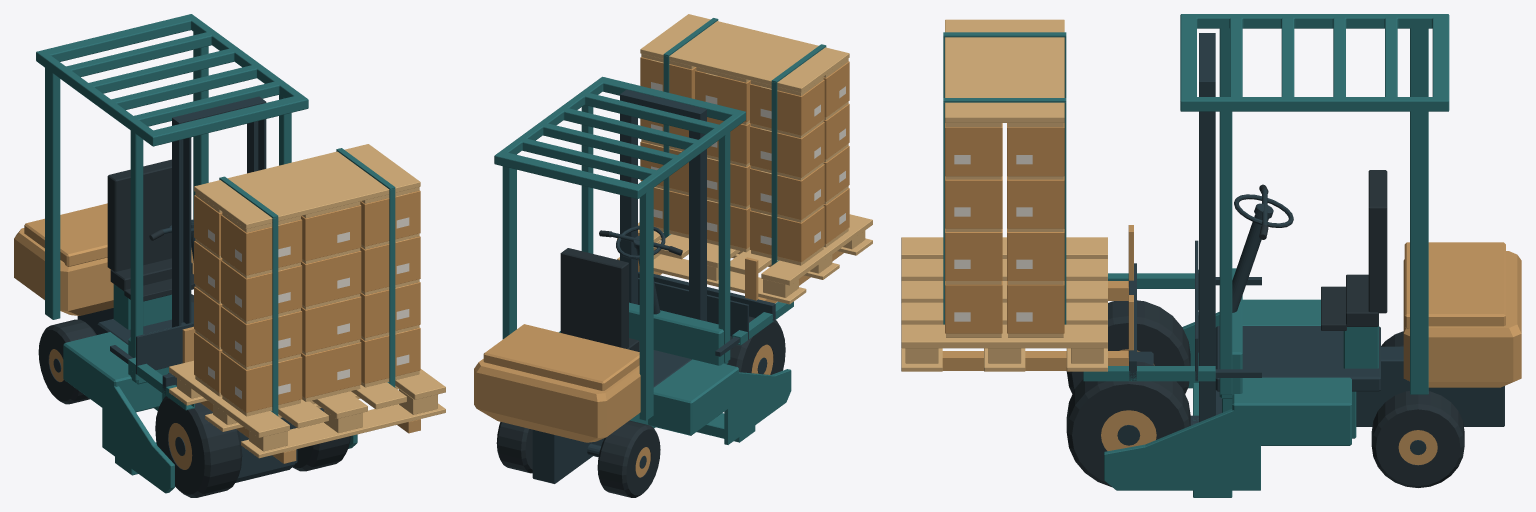
Rendered from forklift-loaded-pallet-load.glb.
3 renders of one model, left to right at view 1: azimuth 30°, elevation 25°; view 2: azimuth 150°, elevation 25°; view 3: azimuth 270°, elevation 25°, orthographic. The views are drawn at different scales.
Visible parts, largest first — view 1: forklift-loaded-pallet-load__batch_26, forklift-loaded-pallet-load__batch_01, forklift-loaded-pallet-load__batch_25, forklift-loaded-pallet-load__batch_00, forklift-loaded-pallet-load__batch_02, forklift-loaded-pallet-load__batch_23, forklift-loaded-pallet-load__batch_19, forklift-loaded-pallet-load__batch_24, forklift-loaded-pallet-load__batch_11, forklift-loaded-pallet-load__batch_03, forklift-loaded-pallet-load__batch_22, forklift-loaded-pallet-load__batch_05 (+2 smaller); view 2: forklift-loaded-pallet-load__batch_01, forklift-loaded-pallet-load__batch_26, forklift-loaded-pallet-load__batch_25, forklift-loaded-pallet-load__batch_02, forklift-loaded-pallet-load__batch_00, forklift-loaded-pallet-load__batch_23, forklift-loaded-pallet-load__batch_11, forklift-loaded-pallet-load__batch_24, forklift-loaded-pallet-load__batch_03, forklift-loaded-pallet-load__batch_19, forklift-loaded-pallet-load__batch_14, forklift-loaded-pallet-load__batch_04 (+3 smaller); view 3: forklift-loaded-pallet-load__batch_01, forklift-loaded-pallet-load__batch_25, forklift-loaded-pallet-load__batch_26, forklift-loaded-pallet-load__batch_00, forklift-loaded-pallet-load__batch_02, forklift-loaded-pallet-load__batch_22, forklift-loaded-pallet-load__batch_14, forklift-loaded-pallet-load__batch_23, forklift-loaded-pallet-load__batch_19, forklift-loaded-pallet-load__batch_08, forklift-loaded-pallet-load__batch_24, forklift-loaded-pallet-load__batch_06 (+5 smaller).
Boxes of the visible parts, left/top/right/bottom form: forklift-loaded-pallet-load__batch_26: left=194, top=190, right=420, bottom=412; forklift-loaded-pallet-load__batch_01: left=36, top=14, right=357, bottom=493; forklift-loaded-pallet-load__batch_25: left=169, top=144, right=445, bottom=458; forklift-loaded-pallet-load__batch_00: left=77, top=96, right=297, bottom=482; forklift-loaded-pallet-load__batch_02: left=14, top=203, right=193, bottom=315; forklift-loaded-pallet-load__batch_23: left=107, top=159, right=195, bottom=301; forklift-loaded-pallet-load__batch_19: left=155, top=396, right=242, bottom=497; forklift-loaded-pallet-load__batch_24: left=219, top=148, right=395, bottom=416; forklift-loaded-pallet-load__batch_11: left=38, top=319, right=96, bottom=404; forklift-loaded-pallet-load__batch_03: left=136, top=322, right=193, bottom=374; forklift-loaded-pallet-load__batch_22: left=292, top=408, right=350, bottom=471; forklift-loaded-pallet-load__batch_05: left=182, top=326, right=296, bottom=463; forklift-loaded-pallet-load__batch_01: left=494, top=76, right=791, bottom=444; forklift-loaded-pallet-load__batch_26: left=640, top=57, right=849, bottom=262; forklift-loaded-pallet-load__batch_25: left=617, top=14, right=872, bottom=304; forklift-loaded-pallet-load__batch_02: left=474, top=324, right=640, bottom=442; forklift-loaded-pallet-load__batch_00: left=532, top=89, right=706, bottom=483; forklift-loaded-pallet-load__batch_23: left=560, top=248, right=639, bottom=351; forklift-loaded-pallet-load__batch_11: left=597, top=420, right=660, bottom=497; forklift-loaded-pallet-load__batch_24: left=663, top=18, right=826, bottom=265; forklift-loaded-pallet-load__batch_03: left=638, top=278, right=748, bottom=339; forklift-loaded-pallet-load__batch_19: left=727, top=316, right=785, bottom=374; forklift-loaded-pallet-load__batch_14: left=496, top=422, right=532, bottom=473; forklift-loaded-pallet-load__batch_04: left=638, top=272, right=775, bottom=356; forklift-loaded-pallet-load__batch_01: left=1104, top=14, right=1449, bottom=497; forklift-loaded-pallet-load__batch_25: left=901, top=19, right=1107, bottom=371; forklift-loaded-pallet-load__batch_26: left=945, top=123, right=1064, bottom=333; forklift-loaded-pallet-load__batch_00: left=1137, top=33, right=1504, bottom=426; forklift-loaded-pallet-load__batch_02: left=1403, top=242, right=1521, bottom=387; forklift-loaded-pallet-load__batch_22: left=1066, top=361, right=1190, bottom=486; forklift-loaded-pallet-load__batch_14: left=1371, top=391, right=1464, bottom=487; forklift-loaded-pallet-load__batch_23: left=1321, top=170, right=1387, bottom=330; forklift-loaded-pallet-load__batch_19: left=1066, top=300, right=1190, bottom=393; forklift-loaded-pallet-load__batch_08: left=1083, top=273, right=1215, bottom=381; forklift-loaded-pallet-load__batch_24: left=943, top=32, right=1066, bottom=324; forklift-loaded-pallet-load__batch_06: left=942, top=295, right=1133, bottom=370.
Size of the model in its own units: 1.2 by 2.1 by 3.
